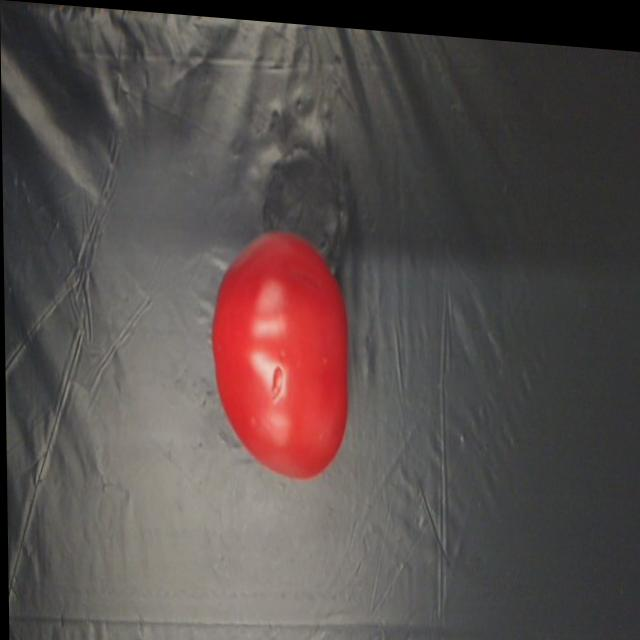kirmizi: (213, 208, 351, 476)
